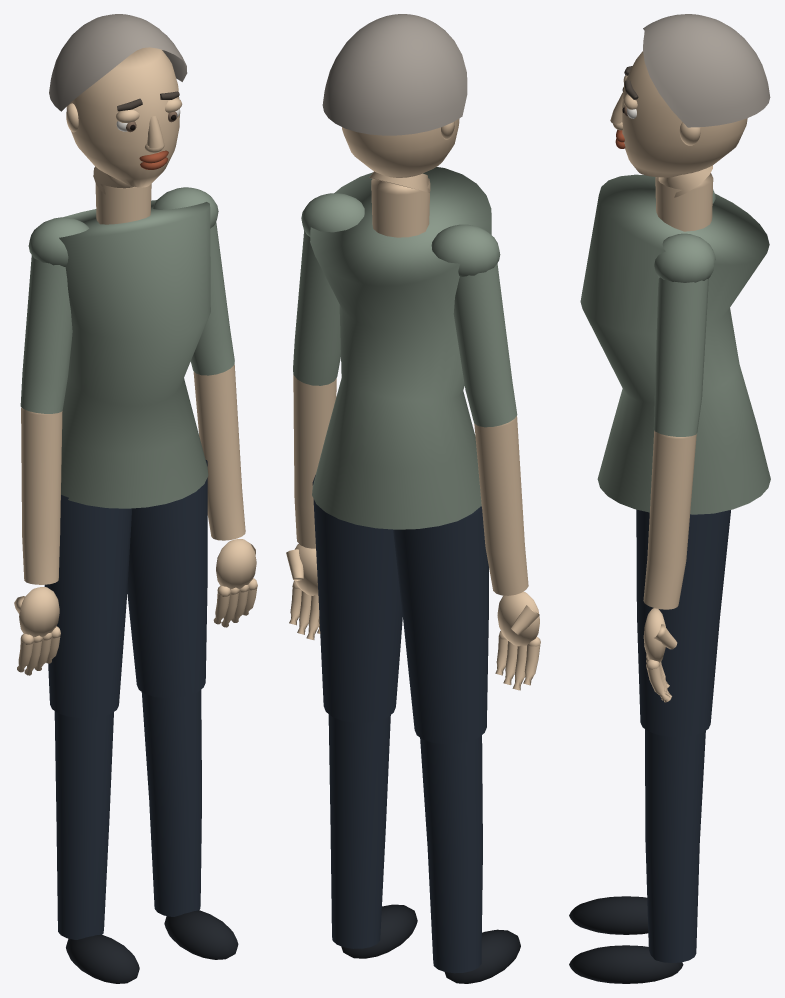
The picture shows the model from 3 angles, left to right: view 1: azimuth 30°, elevation 25°; view 2: azimuth 150°, elevation 25°; view 3: azimuth 270°, elevation 25°; orthographic projection. The views are drawn at different scales.
Parts seen in each view (by area): view 1: aboud_fig, aboud_head; view 2: aboud_fig, aboud_head; view 3: aboud_fig, aboud_head.
Boxes of the visible parts, bbox=[...] form: aboud_fig: bbox=[14, 184, 257, 983]; aboud_head: bbox=[49, 14, 187, 194]; aboud_fig: bbox=[286, 167, 540, 983]; aboud_head: bbox=[322, 14, 467, 192]; aboud_fig: bbox=[569, 173, 770, 983]; aboud_head: bbox=[610, 14, 770, 197].
Size of the model in its own units: 0.4822 by 1.76 by 0.344.
